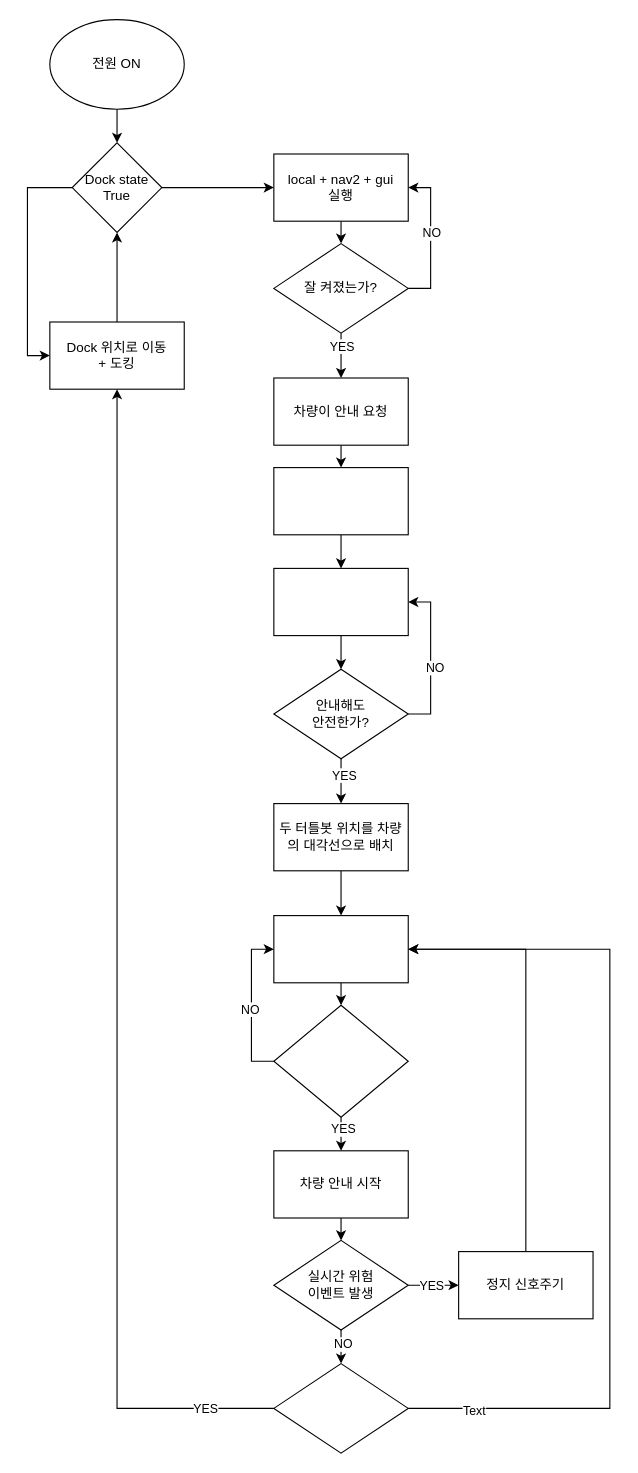
Image size: 638x1473. Some labels were removed from this diagram. Here are the shapes that lost their labels. From the top down, the centre of each, then its label:
pixel 340 500: 차량 주변으로 이동
pixel 340 601: 차량 주변 안전 점검
pixel 340 948: 설정된 위험 지역 피해서 경로 설정
pixel 340 1060: 경로가 막히는곳 없이 생성 되는가?
pixel 340 1407: 목표에 도달했는가?
